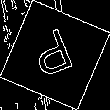P_S: (28, 25, 82, 85)
